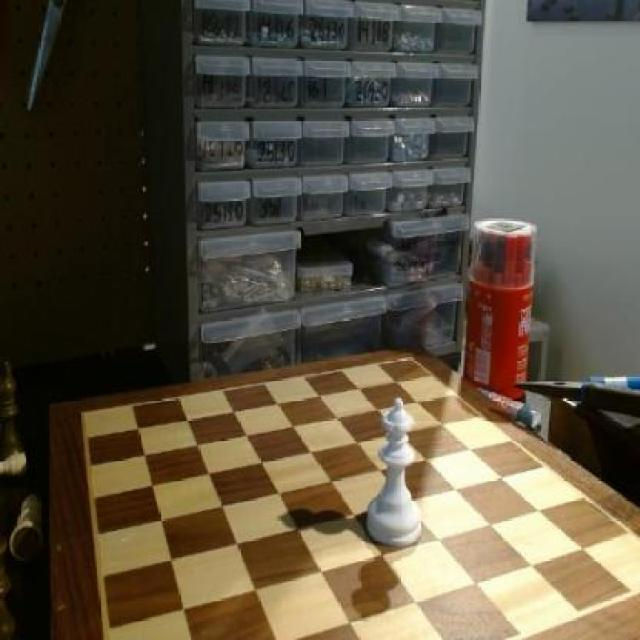white-pawn: (366, 396, 430, 548)
